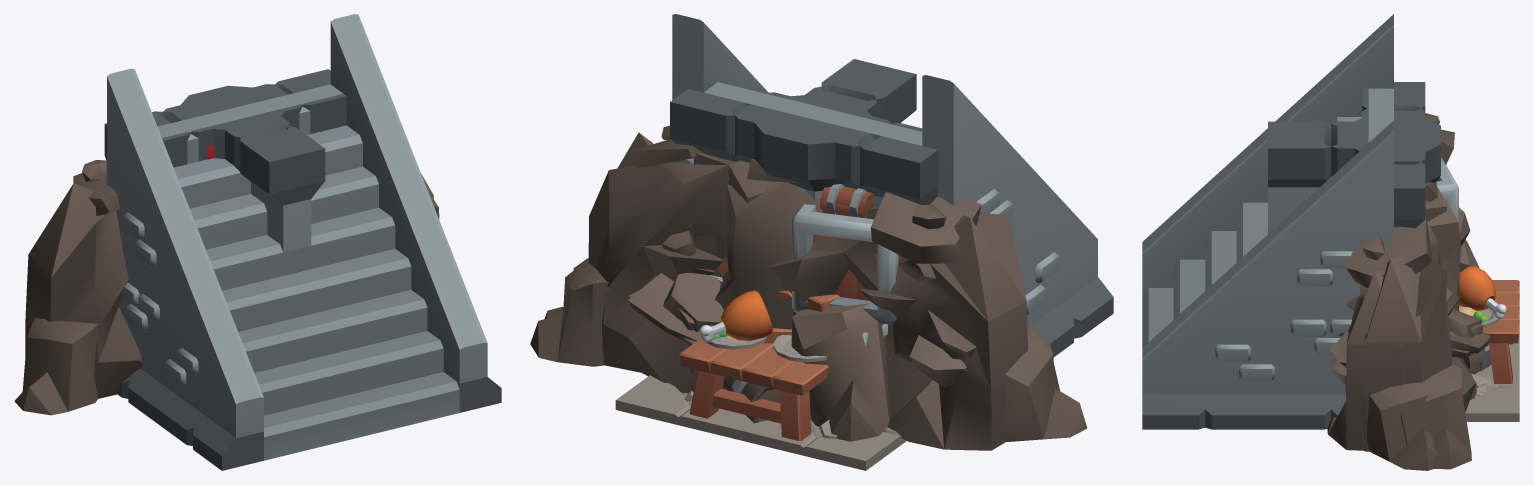
Rendered from dungeon.glb.
3 views of the same model, side by side, from view 1: azimuth 30°, elevation 25°; view 2: azimuth 150°, elevation 25°; view 3: azimuth 270°, elevation 25° (orthographic). The views are drawn at different scales.
Visible parts, largest first — view 1: stairs, rubble_large, wall_corner, wall_arched, wall_pillar, pillar_decorated; view 2: rubble_large, rubble_half, stairs, table_long_decorated_A, box_stacked, floor_tile_large, wall_pillar, wall_arched, wall_corner, wall, wall_half, pillar (+1 smaller); view 3: stairs, rubble_half, rubble_large, wall_corner, wall_arched, table_long_decorated_A, wall, floor_tile_large, wall_pillar, box_stacked, floor_dirt_large_rocky.
Part boxes in pixels (<box>): stairs: <box>107,14,501,470</box>; rubble_large: <box>14,160,439,415</box>; wall_corner: <box>187,114,325,252</box>; wall_arched: <box>104,69,346,167</box>; wall_pillar: <box>181,85,285,158</box>; pillar_decorated: <box>190,86,277,129</box>; rubble_large: <box>544,141,1087,450</box>; rubble_half: <box>530,125,767,393</box>; stairs: <box>672,14,1113,357</box>; table_long_decorated_A: <box>679,290,828,440</box>; box_stacked: <box>710,184,898,423</box>; floor_tile_large: <box>615,375,905,470</box>; wall_pillar: <box>726,94,921,201</box>; wall_arched: <box>670,79,937,204</box>; wall_corner: <box>800,59,924,207</box>; wall: <box>726,106,936,204</box>; wall_half: <box>670,102,821,162</box>; pillar: <box>764,95,863,183</box>; stairs: <box>1142,14,1393,429</box>; rubble_half: <box>1345,197,1489,469</box>; rubble_large: <box>1327,113,1490,470</box>; wall_corner: <box>1268,106,1415,232</box>; wall_arched: <box>1362,82,1425,227</box>; table_long_decorated_A: <box>1459,265,1519,384</box>; wall: <box>1362,127,1425,228</box>; floor_tile_large: <box>1465,334,1519,414</box>; wall_pillar: <box>1346,118,1440,183</box>; box_stacked: <box>1436,157,1491,374</box>; floor_dirt_large_rocky: <box>1465,373,1519,421</box>.
Bounding box in the file's own units: 8.13 × 5.91 × 6.
1 material, 1 textured.
